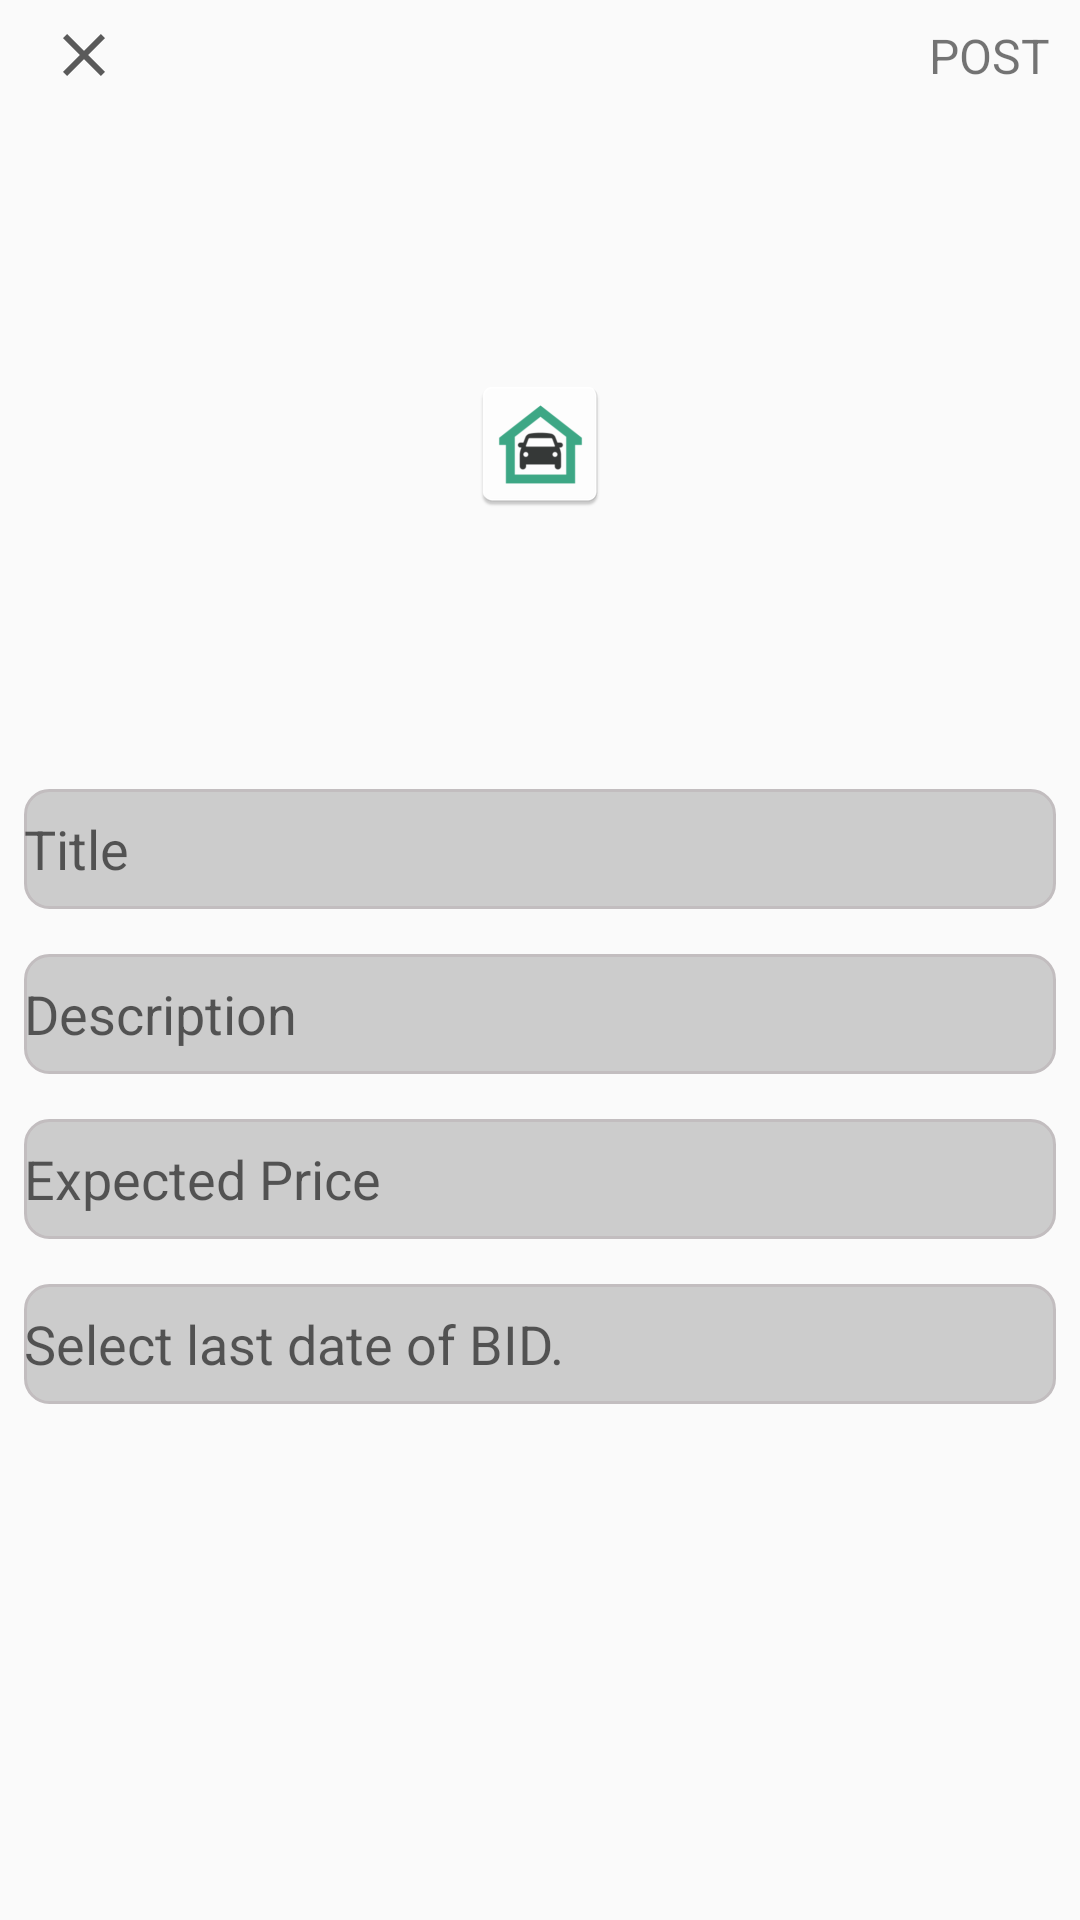

Icon bounding boxes for this 1080px×1920px phone screenshot, format box(x1, y1, x2, y2):
close: box(63, 34, 105, 76)
